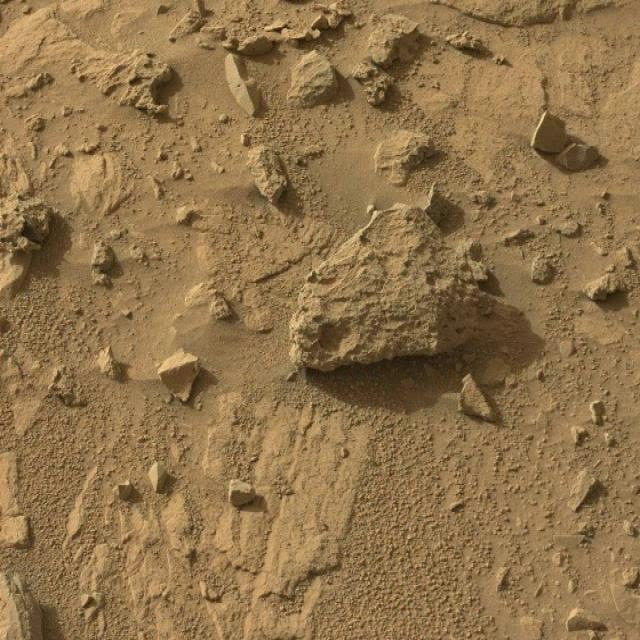rock: (288, 205, 481, 369), (0, 568, 43, 639), (280, 555, 342, 602), (16, 583, 66, 640), (247, 147, 287, 204), (157, 350, 199, 402), (576, 480, 608, 513), (13, 517, 36, 553), (231, 490, 267, 513), (569, 621, 608, 640), (84, 596, 107, 621), (119, 484, 142, 505)
